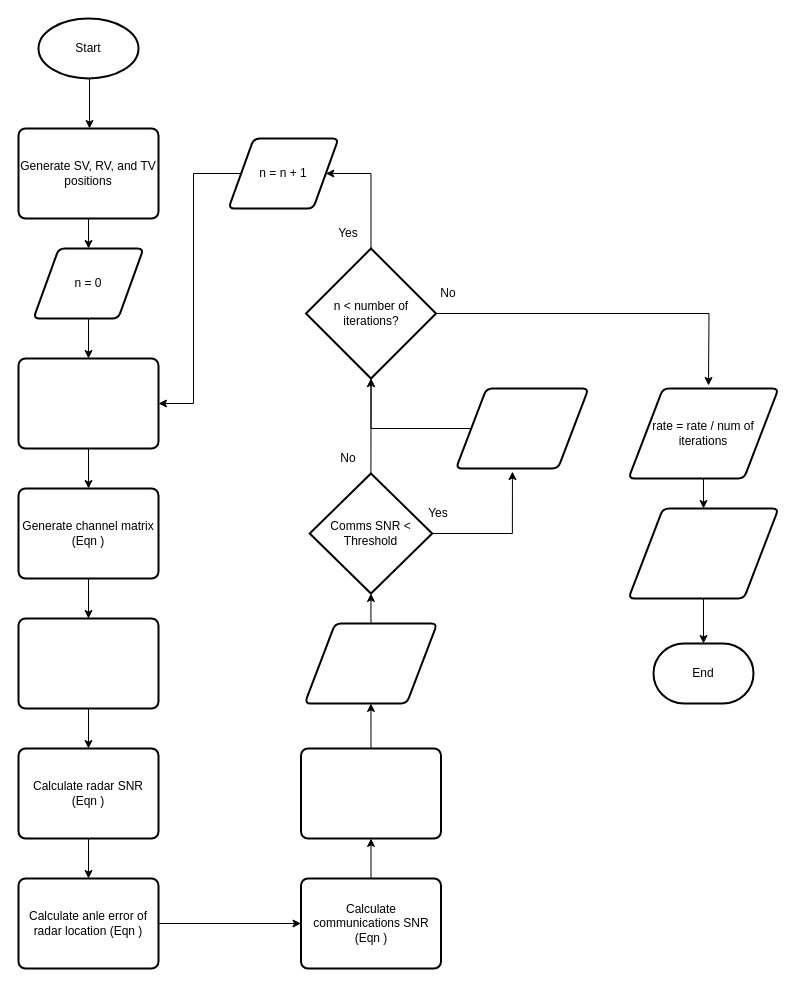
Some shapes in this 796 by 986 pixel diagram are drawn without their labels. The shapes that lost their labels are listed below. From the top down, each one's centre as x and y in pixels, then its label:
At [88,403]: "Generate Interfering car positions".
At [521,428]: "outage += 1".
At [703,553]: "outage = outage / num of iterations".
At [88,663]: "Calculate jamming from interferers (Eqn )".
At [370,663]: "rate_avg += rate".
At [371,793]: "Calculate rate (Eqn )".
